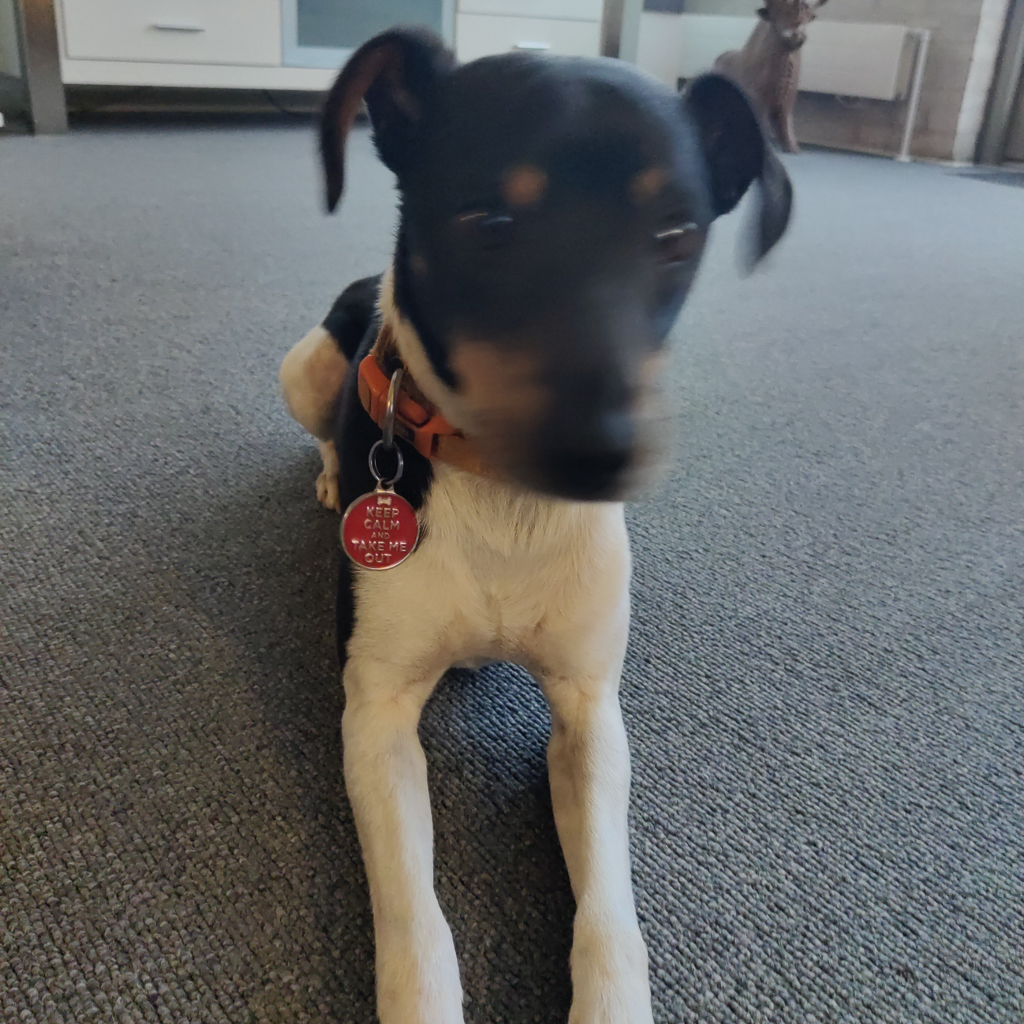Cattle: (698, 0, 843, 170)
Dog: (265, 13, 806, 1024)
